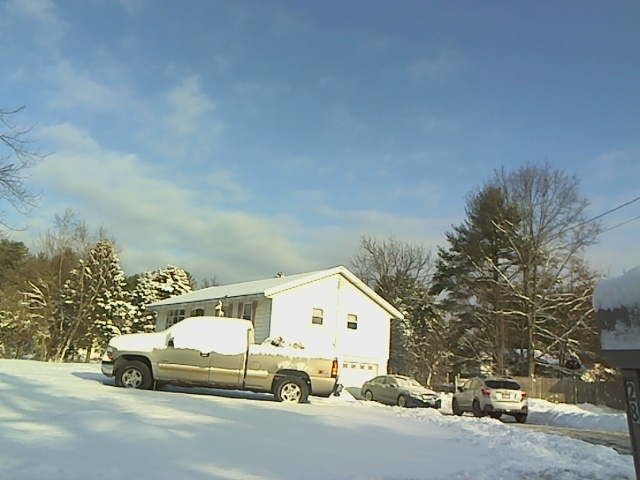Ploughed: (504, 417, 627, 452)
